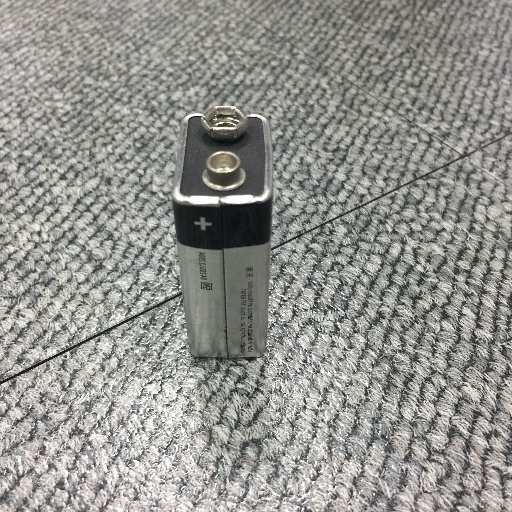Battery_3: (159, 93, 294, 385)
